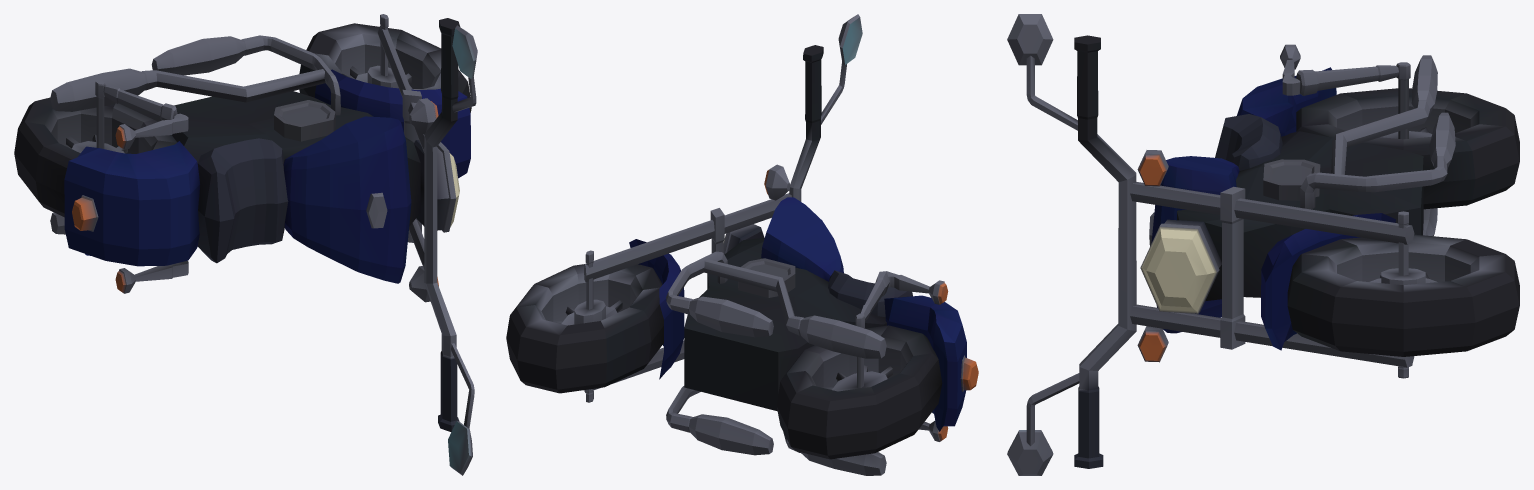
Rendered from motorcycle.glb.
The picture shows the model from 3 angles, left to right: view 1: azimuth 30°, elevation 25°; view 2: azimuth 150°, elevation 25°; view 3: azimuth 270°, elevation 25°; orthographic projection. The views are drawn at different scales.
Visible parts, largest first — view 1: vehicle/motorcycle; view 2: vehicle/motorcycle; view 3: vehicle/motorcycle.
Boxes of the visible parts, x1=… form: vehicle/motorcycle: x1=14, y1=14, x2=477, y2=475; vehicle/motorcycle: x1=506, y1=14, x2=978, y2=475; vehicle/motorcycle: x1=1007, y1=14, x2=1519, y2=475.
Bounding box in the file's own units: 1 × 1 × 1.
